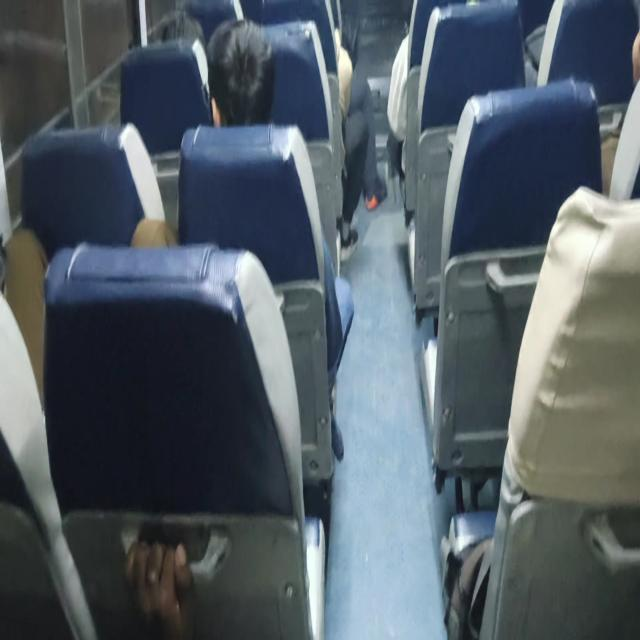person: (130, 18, 354, 462), (130, 17, 276, 248), (333, 24, 388, 260), (205, 18, 276, 127), (123, 536, 196, 638)
